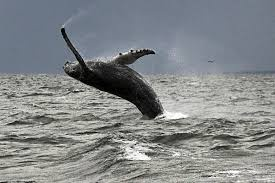humpback: (64, 59, 167, 117)
